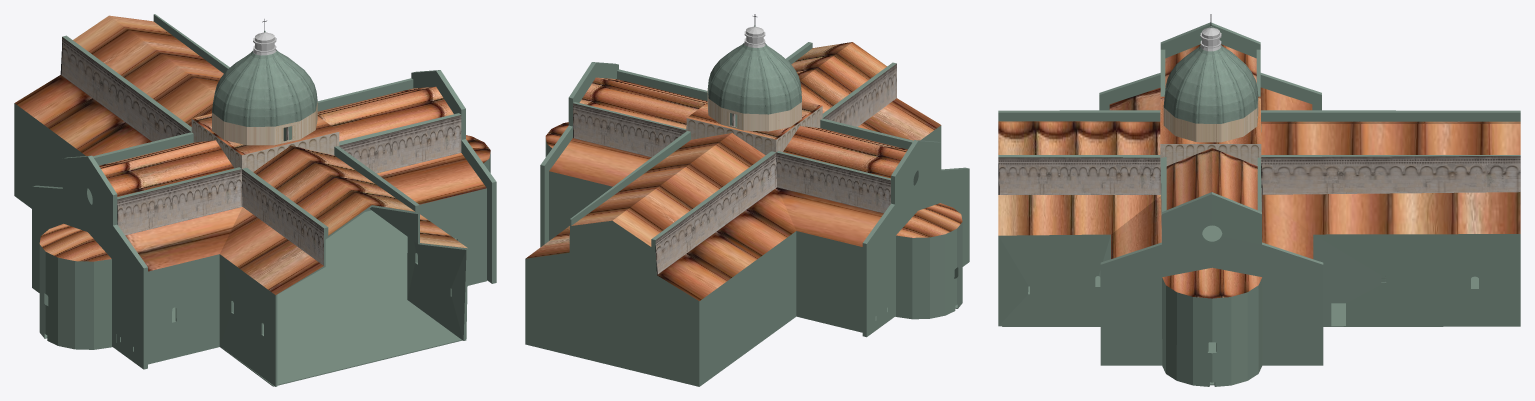
The model's file is Duomo_vero.fbx.
3 renders of one model, left to right at view 1: azimuth 30°, elevation 25°; view 2: azimuth 150°, elevation 25°; view 3: azimuth 270°, elevation 25°, orthographic. The views are drawn at different scales.
Visible parts, largest first — view 1: Duomo; view 2: Duomo; view 3: Duomo.
Part boxes in pixels (x1,y1,x2,y2): Duomo: (14,14,496,386); Duomo: (525,14,969,386); Duomo: (998,14,1520,386).
Bounding box in the file's own units: 4999 × 2909 × 5159.
